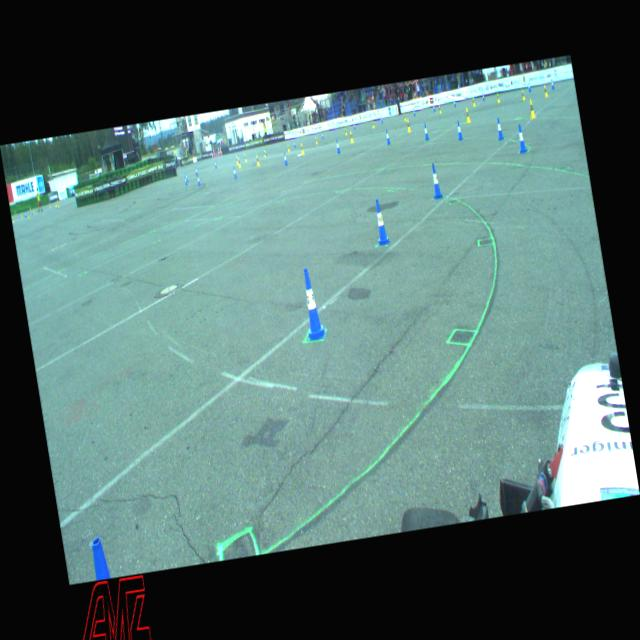blue_cone: (298, 267, 326, 341), (372, 198, 391, 246), (428, 162, 444, 200), (516, 123, 527, 153), (496, 117, 504, 140), (456, 120, 464, 142), (423, 122, 430, 140), (384, 129, 390, 145), (283, 152, 288, 166), (336, 139, 340, 154), (233, 166, 237, 178), (550, 78, 554, 90), (197, 174, 201, 186), (527, 81, 531, 92), (412, 108, 416, 116), (352, 122, 356, 130), (432, 105, 436, 112), (482, 92, 485, 101), (195, 167, 198, 176), (185, 176, 188, 185), (215, 160, 218, 168), (293, 140, 296, 148), (321, 132, 324, 140), (381, 116, 384, 124), (31, 208, 34, 216), (264, 148, 267, 156), (454, 99, 456, 108), (186, 173, 188, 182), (24, 212, 26, 218)
yellow_cone: (528, 98, 536, 118), (464, 106, 471, 124), (520, 88, 526, 100), (406, 119, 411, 132), (349, 130, 353, 144), (544, 85, 548, 98), (496, 93, 501, 103), (472, 96, 476, 108), (300, 142, 304, 154), (256, 155, 260, 166), (238, 157, 242, 168), (236, 154, 239, 166), (438, 105, 442, 114), (344, 128, 348, 136), (56, 200, 60, 208), (403, 112, 406, 121), (315, 137, 318, 145), (287, 144, 290, 152), (27, 212, 30, 220), (372, 120, 375, 128), (245, 154, 248, 162), (264, 149, 266, 158), (33, 208, 35, 216), (55, 201, 57, 208), (21, 212, 23, 218), (12, 217, 14, 223), (50, 202, 51, 210)
